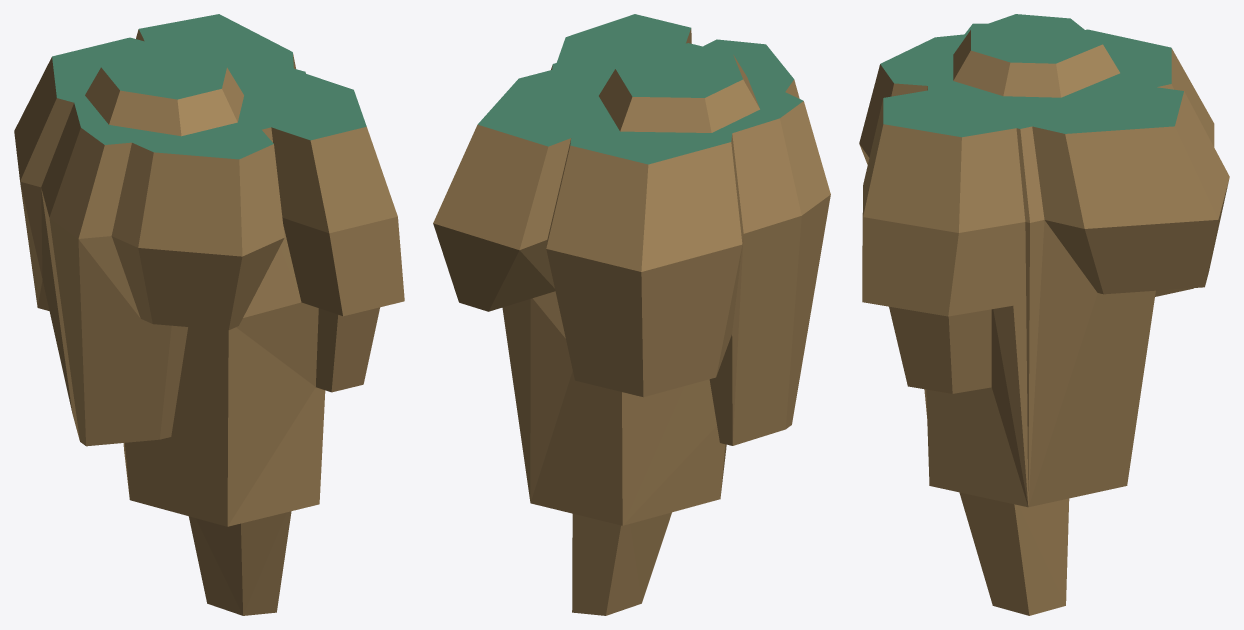
Rendered from Rock_Large_Stone_Floating_Moss_Grass_01.FBX.
3 views of the same model, side by side, from view 1: azimuth 30°, elevation 25°; view 2: azimuth 150°, elevation 25°; view 3: azimuth 270°, elevation 25° (orthographic). The views are drawn at different scales.
Visible parts, largest first — view 1: Rock_Large_Stone_Floating_Moss_Grass_01; view 2: Rock_Large_Stone_Floating_Moss_Grass_01; view 3: Rock_Large_Stone_Floating_Moss_Grass_01.
Boxes of the visible parts, box(x1,y1,x2,y2) form: Rock_Large_Stone_Floating_Moss_Grass_01: box(14, 14, 404, 615); Rock_Large_Stone_Floating_Moss_Grass_01: box(433, 14, 830, 615); Rock_Large_Stone_Floating_Moss_Grass_01: box(859, 14, 1229, 615).
Bounding box in the file's own units: 4387 × 7705 × 4914.
